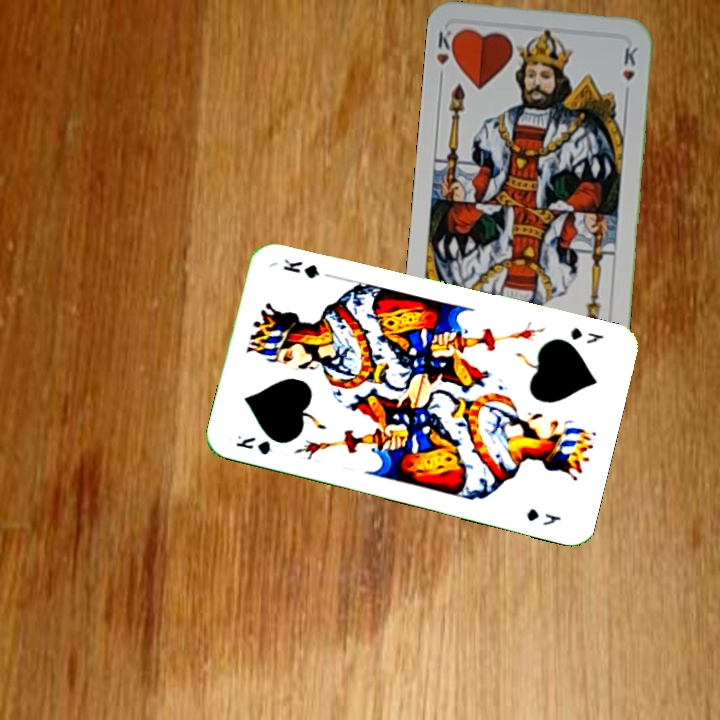GK: (231, 431, 276, 457), (566, 323, 607, 346)
HK: (432, 26, 460, 84)
